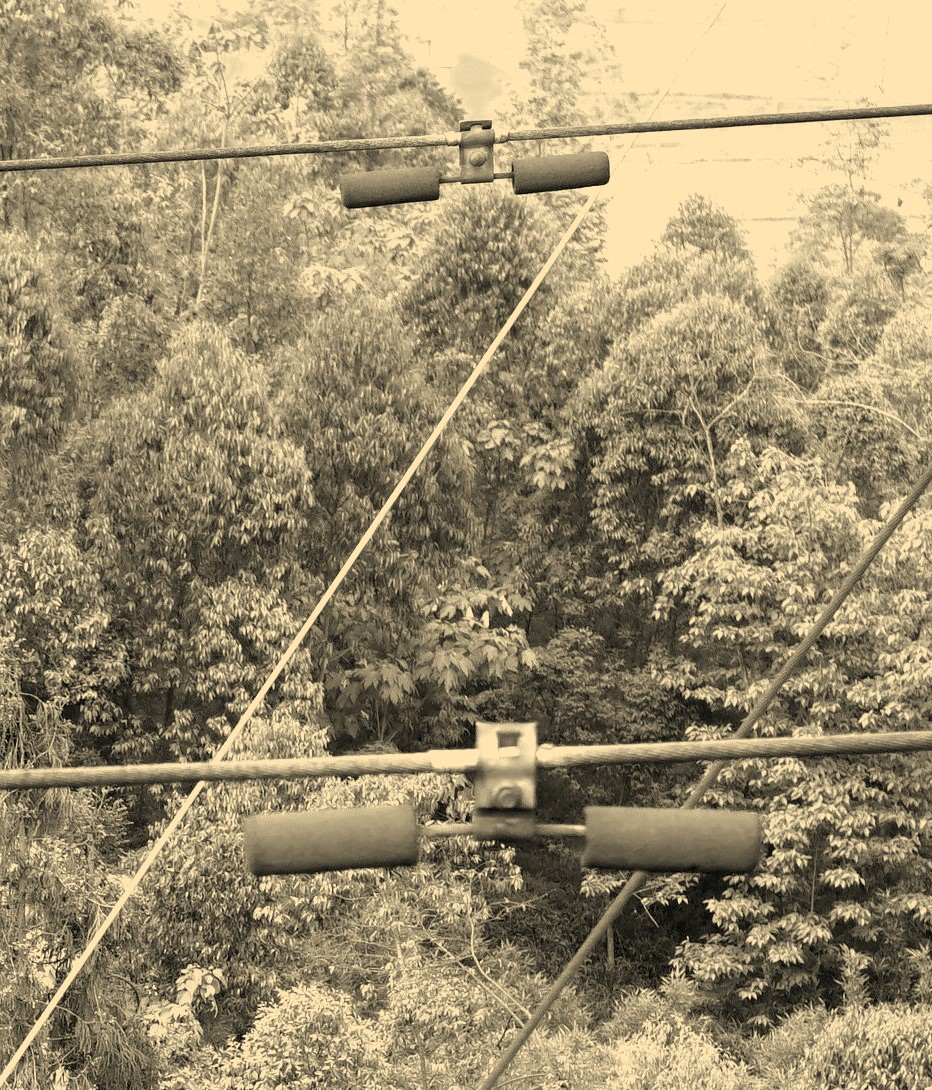Shockproof hammer: (223, 702, 775, 906), (332, 108, 617, 214)
